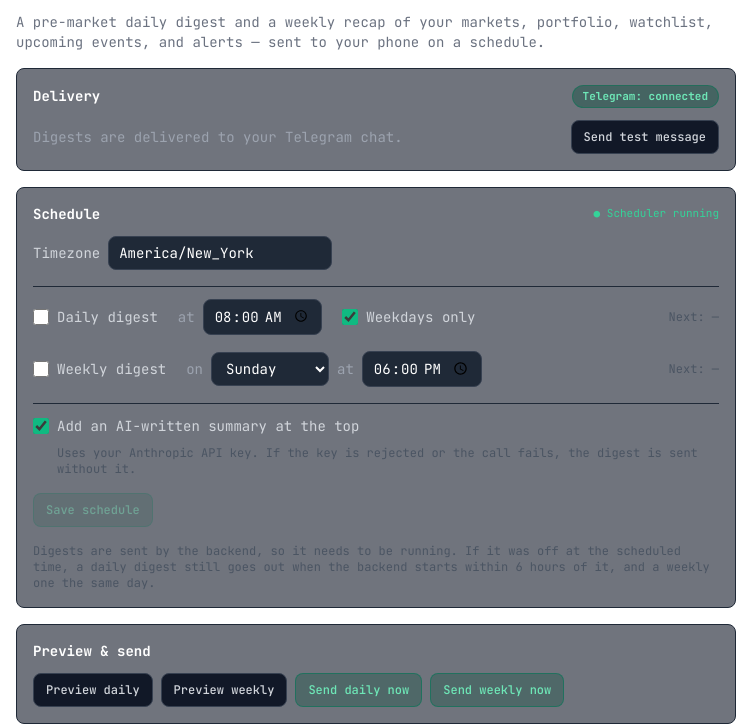
Scenario: DigestCenter › surfaces a failed test message with the channel error
The width and height of the screenshot is (753, 727).
Click the button "Send test message".
click(645, 136)  # box [571,120,719,154]
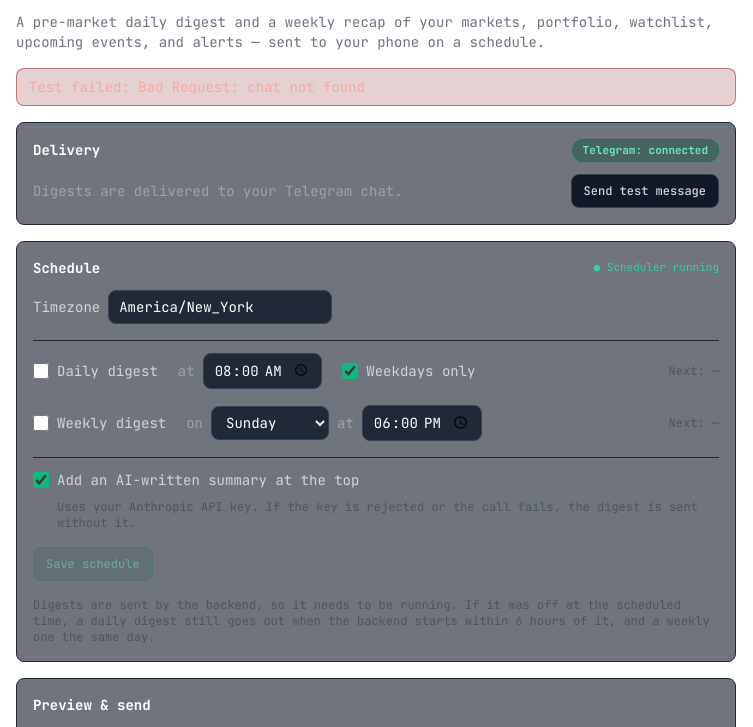
Check: the text "Test failed: Bad Request: chat not found" is shown, box [16,68,736,106]
